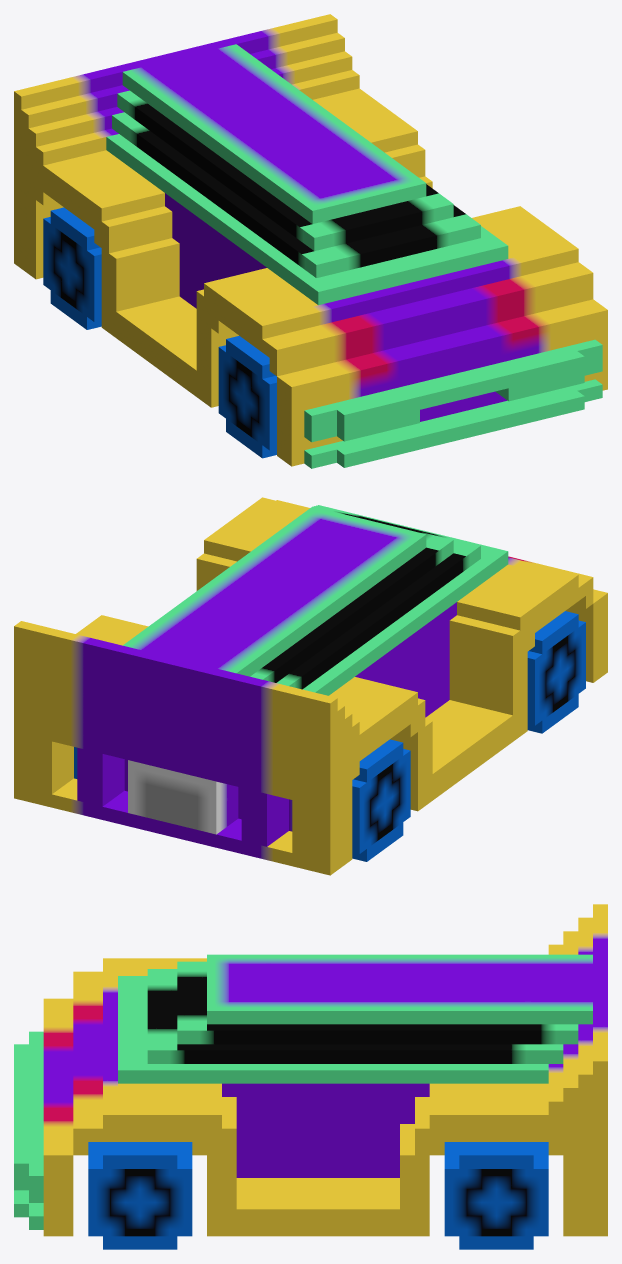
The model's file is Car_30.fbx.
3 renders of one model, top to bottom at view 1: azimuth 30°, elevation 25°; view 2: azimuth 150°, elevation 25°; view 3: azimuth 270°, elevation 25°, orthographic.
Visible parts, largest first — view 1: Car_30; view 2: Car_30; view 3: Car_30.
Boxes of the visible parts, left/top/right/bottom form: Car_30: left=14, top=14, right=607, bottom=468; Car_30: left=14, top=497, right=607, bottom=875; Car_30: left=14, top=904, right=607, bottom=1249.
Bounding box in the file's own units: 25 × 14 × 40.
1 material, 1 textured.
